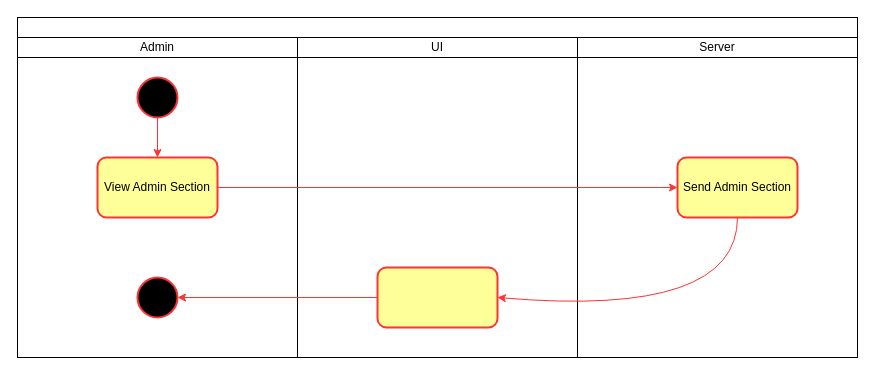
Image size: 875x375. Some labels were removed from this diagram. The shapes that lost their labels are listed below. From the top down, each one's centre as x and y in pixels, then its label:
[437,27]: Access AdminWindow
[437,297]: Show Admin section
